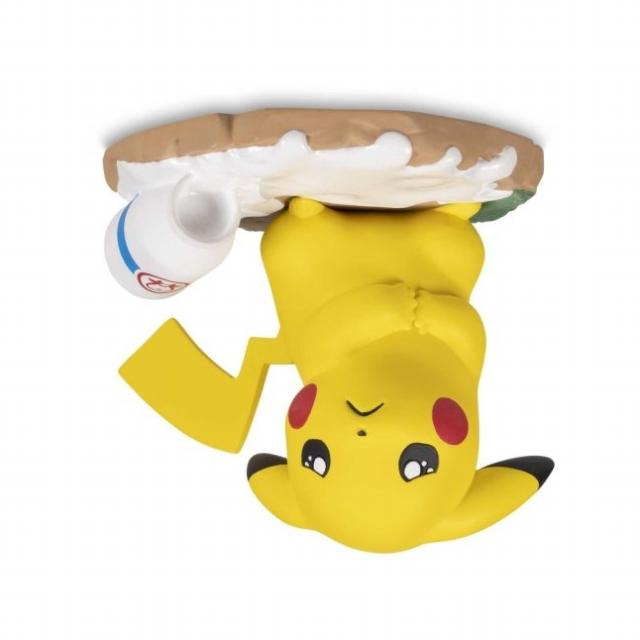Pikachu: (127, 200, 570, 586)
